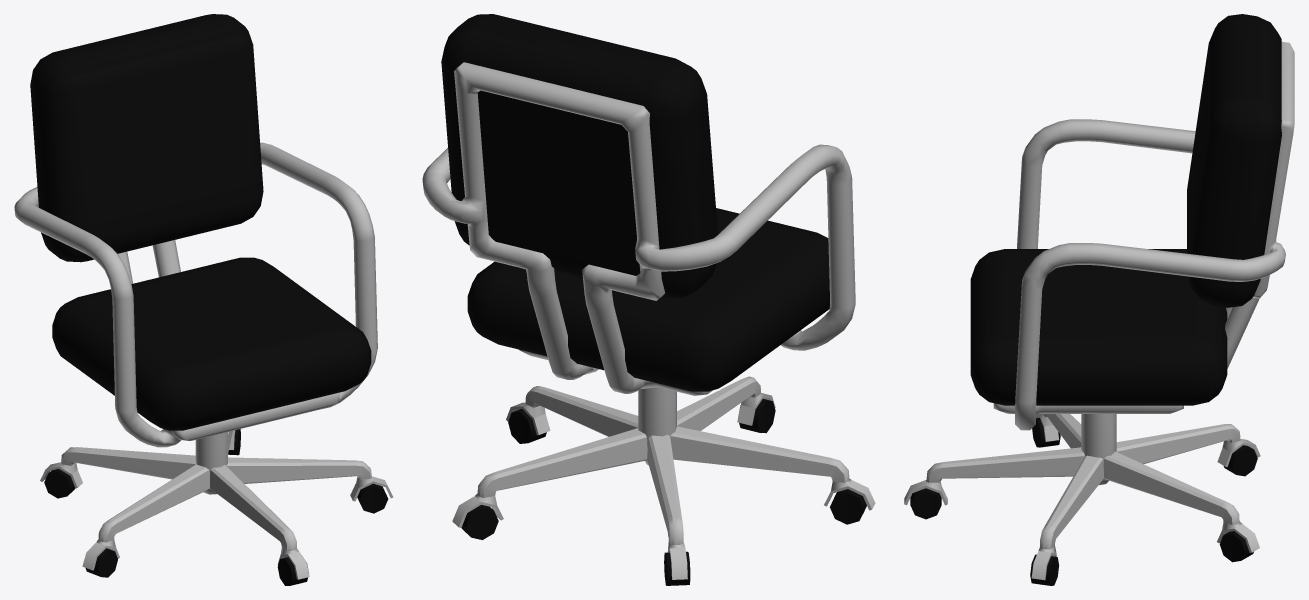
The model's file is SM_Chair.fbx.
3 views of the same model, side by side, from view 1: azimuth 30°, elevation 25°; view 2: azimuth 150°, elevation 25°; view 3: azimuth 270°, elevation 25° (orthographic). The views are drawn at different scales.
Parts seen in each view (by area): view 1: Chair_Default; view 2: Chair_Default; view 3: Chair_Default.
Boxes of the visible parts, x1,y1,x2,y2 form: Chair_Default: (14,14,393,585); Chair_Default: (422,14,875,585); Chair_Default: (904,14,1294,585).
Size of the model in its own units: 70.69 by 96.01 by 73.99.
3 materials, 3 textured.
